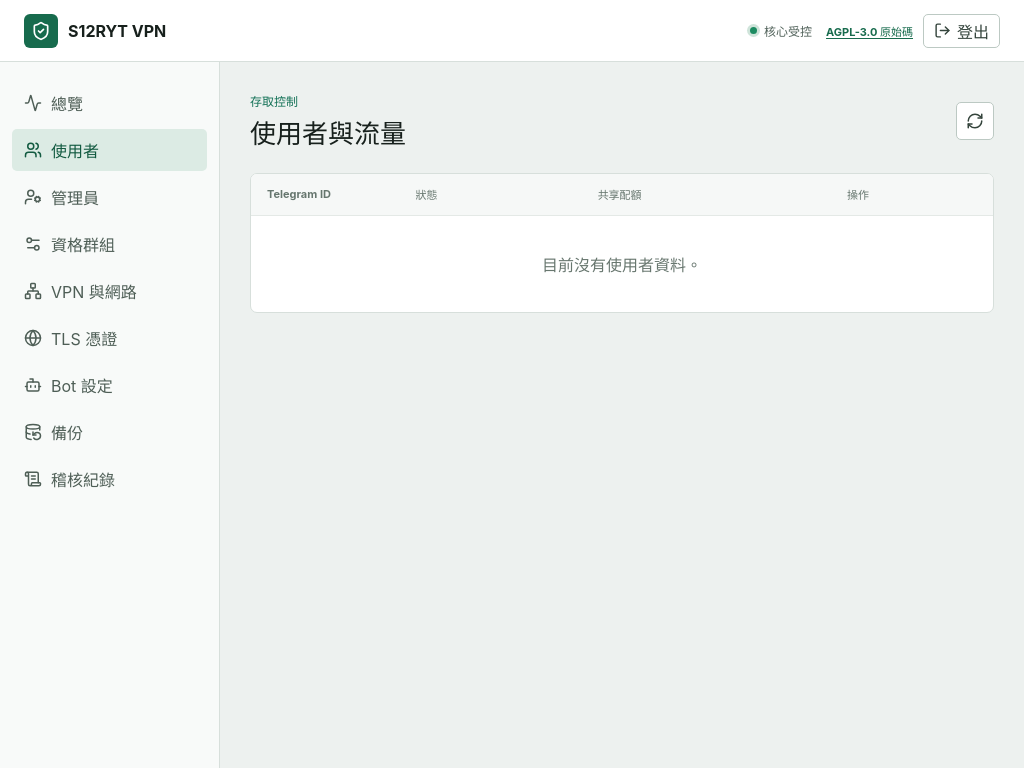
Scenario: 管理面板登入 › 擁有者啟用資格群組時提交 Bot 管理員驗證契約
Click the button "資格群組" at (110, 244), box left=12, top=223, right=207, bottom=265
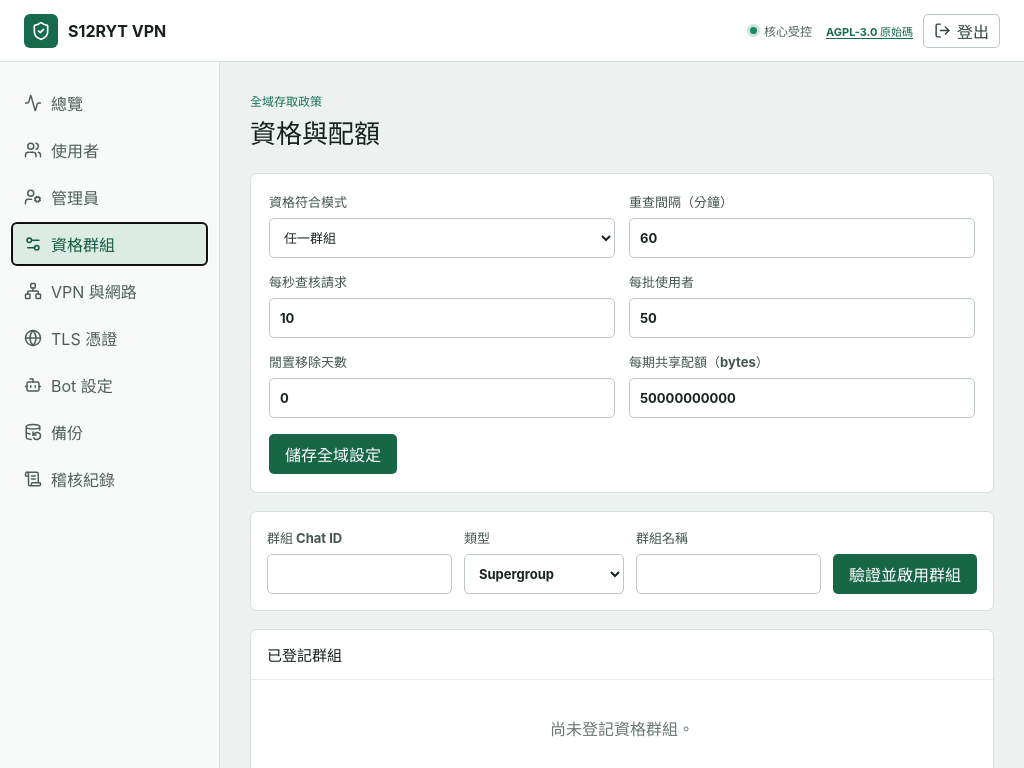
Type "-1001" into the field labelled "群組 Chat ID" at (360, 574), box left=267, top=554, right=452, bottom=594
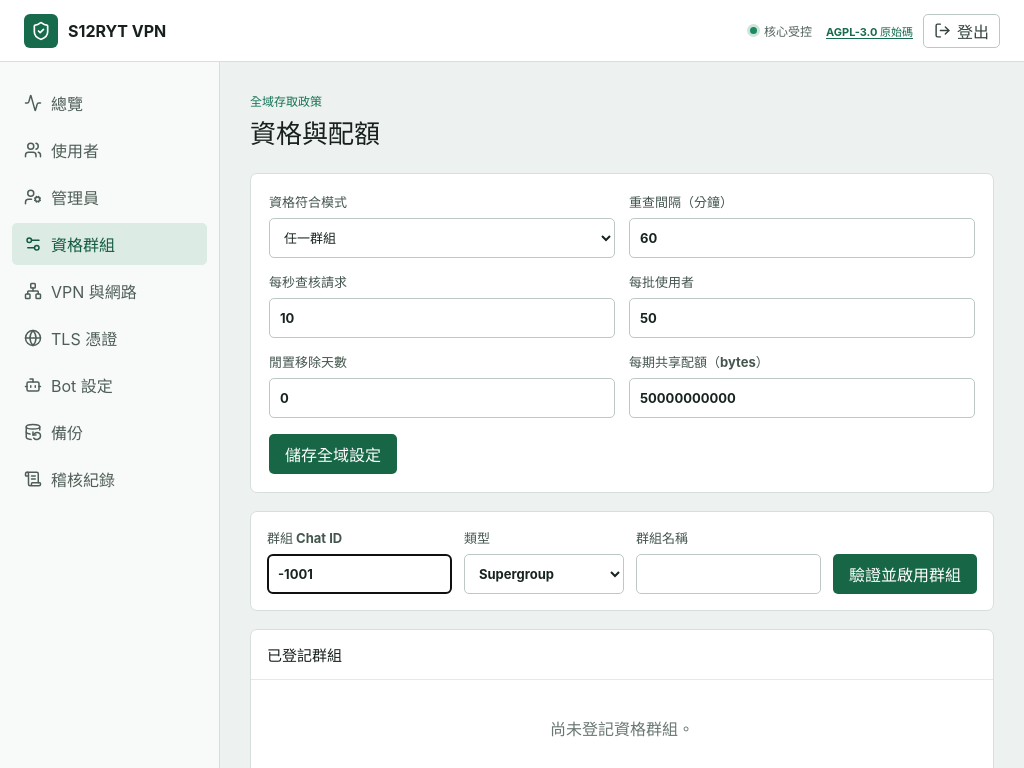
Type "會員群" into the field labelled "群組名稱" at (728, 574), box left=636, top=554, right=821, bottom=594
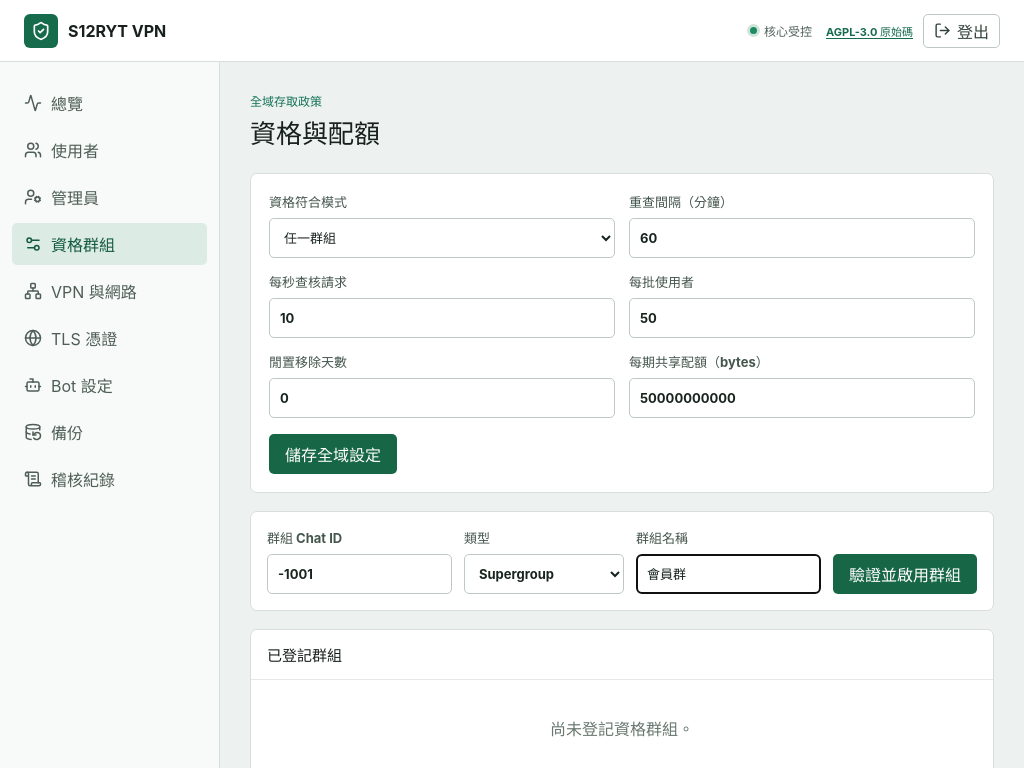
Click the button "驗證並啟用群組" at (905, 574), box left=833, top=554, right=977, bottom=594
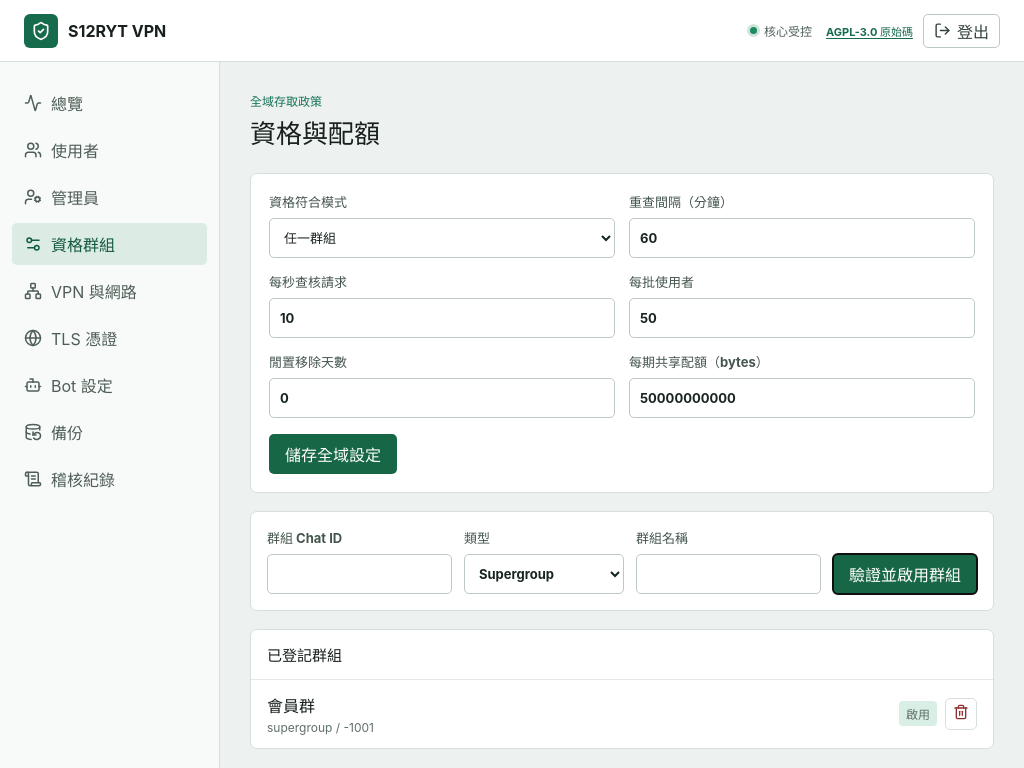
Now the text "會員群" is shown, box left=267, top=696, right=315, bottom=716
